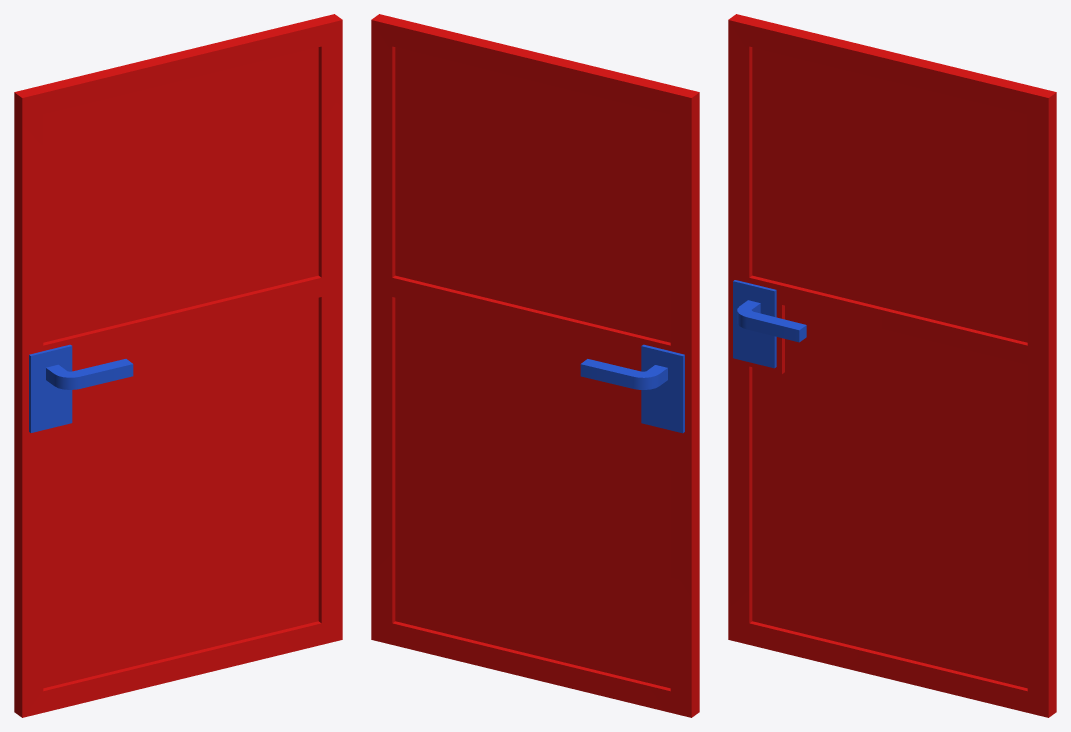
File: Door.fbx
3 renders of one model, left to right at view 1: azimuth 30°, elevation 25°; view 2: azimuth 150°, elevation 25°; view 3: azimuth 330°, elevation 25°, orthographic.
Visible parts, largest first — view 1: Door; view 2: Door; view 3: Door.
Part boxes in pixels (box(x1,y1,x2,y2)): Door: box(14, 14, 342, 717); Door: box(371, 14, 699, 717); Door: box(728, 14, 1056, 717).
Bounding box in the file's own units: 283 × 523 × 73.53.
